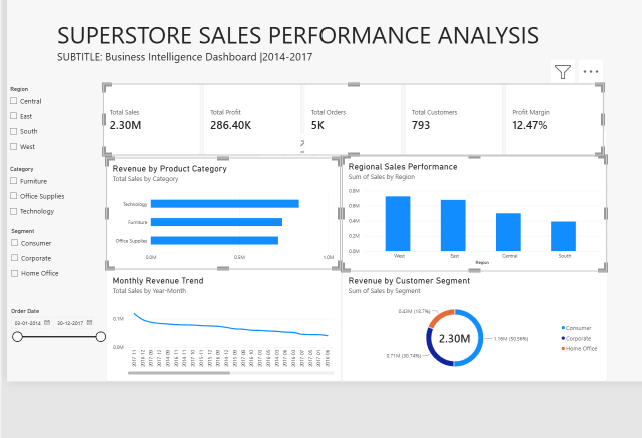

This screenshot's page, from the dashboard's own definition file:
{"tool":"powerbi","page":{"name":"Page 1","canvas":[1920,1080],"ordinal":0},"visuals":[{"type":"clusteredBarChart","title":"Revenue by Product Category","fields":{"Category":["myprojects.Category"],"Y":["myprojects.Total Sales"]},"box":[248.3,520,681.7,280],"z":4},{"type":"cardVisual","fields":{"Data":["myprojects.Total Sales","myprojects.Total Profit","myprojects.Total Orders","myprojects.Total Customers","myprojects.Profit Margin"]},"box":[240,336.7,1353.3,180],"z":5},{"type":"columnChart","title":"Regional Sales Performance","fields":{"Category":["myprojects.Region"],"Y":["Sum(myprojects.Sales)"]},"box":[930,515,664,290],"z":7},{"type":"lineChart","title":"Monthly Revenue Trend","fields":{"Category":["myprojects.Year-Month"],"Y":["myprojects.Total Sales"]},"box":[248.3,800,680,280],"z":8},{"type":"donutChart","title":"Revenue by Customer Segment","fields":{"Category":["myprojects.Segment"],"Y":["Sum(myprojects.Sales)"]},"box":[928.3,800,665,280],"z":9},{"type":"slicer","fields":{"Values":["myprojects.Region"]},"box":[0,340,248,180],"z":10},{"type":"slicer","fields":{"Values":["myprojects.Category"]},"box":[0,540,206,198],"z":11},{"type":"slicer","fields":{"Values":["myprojects.Segment"]},"box":[2,696,248,198],"z":12},{"type":"slicer","fields":{"Values":["myprojects.Order Date"]},"box":[2,894,248,186],"z":13},{"type":"textbox","box":[1490,120,430,180],"z":16},{"type":"textbox","box":[126,152,1364,150],"z":17}]}

Visuals, with their boxes on the page's 1920x1080 design canvas (x1, y1, x2, y2). These are canvas units, not pixel positions in the 642x438 screenshot, which may show the page scaled, cropped or inside an application window:
"Revenue by Product Category" clusteredBarChart: crop(248, 520, 930, 800)
cardVisual - myprojects.Total Sales x myprojects.Total Profit: crop(240, 337, 1593, 517)
"Regional Sales Performance" columnChart: crop(930, 515, 1594, 805)
"Monthly Revenue Trend" lineChart: crop(248, 800, 928, 1080)
"Revenue by Customer Segment" donutChart: crop(928, 800, 1593, 1080)
slicer - myprojects.Region: crop(0, 340, 248, 520)
slicer - myprojects.Category: crop(0, 540, 206, 738)
slicer - myprojects.Segment: crop(2, 696, 250, 894)
slicer - myprojects.Order Date: crop(2, 894, 250, 1080)
textbox: crop(1490, 120, 1920, 300)
textbox: crop(126, 152, 1490, 302)
